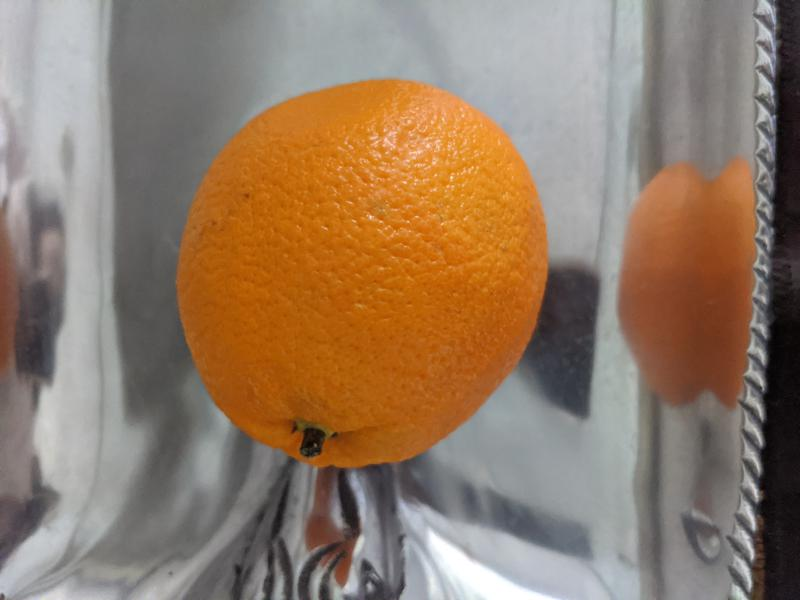orange: (176, 76, 550, 471)
